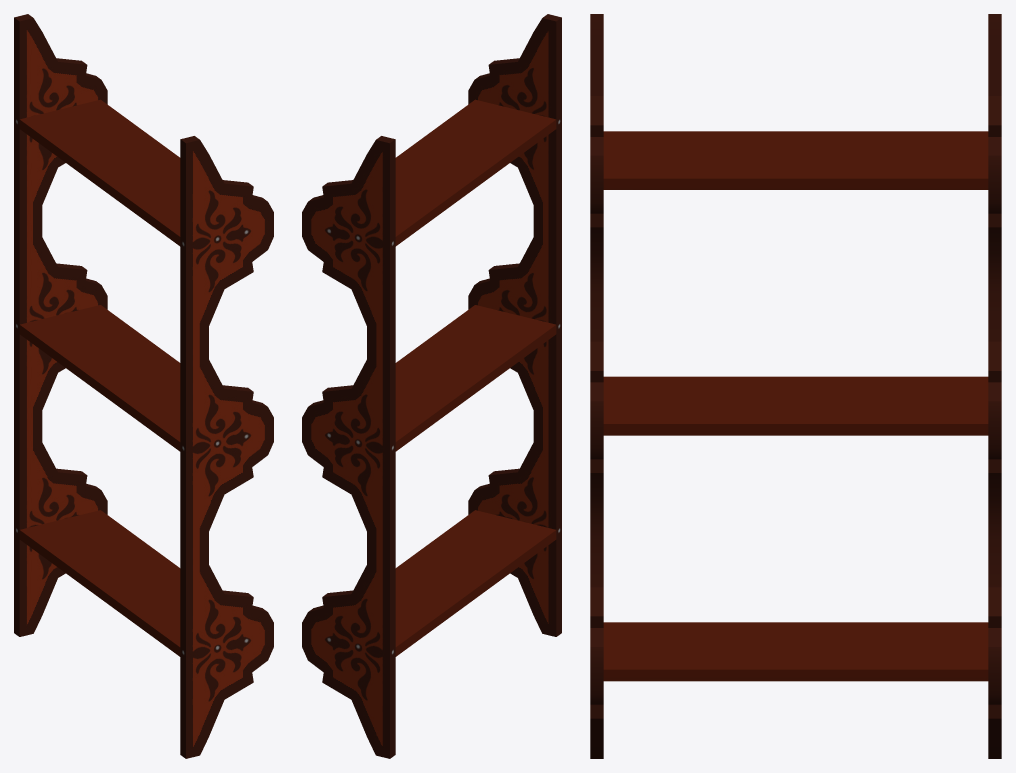
Rendered from VicShelf.fbx.
The picture shows the model from 3 angles, left to right: view 1: azimuth 30°, elevation 25°; view 2: azimuth 150°, elevation 25°; view 3: azimuth 270°, elevation 25°; orthographic projection. The views are drawn at different scales.
Parts seen in each view (by area): view 1: VicShelf; view 2: VicShelf; view 3: VicShelf.
Part boxes in pixels (x1=…): VicShelf: x1=14, y1=14, x2=273, y2=758; VicShelf: x1=302, y1=14, x2=561, y2=758; VicShelf: x1=590, y1=14, x2=1001, y2=758.
Size of the model in its own units: 0.4569 by 3.06 by 1.55.
Materials: 1 (1 with a texture image).
